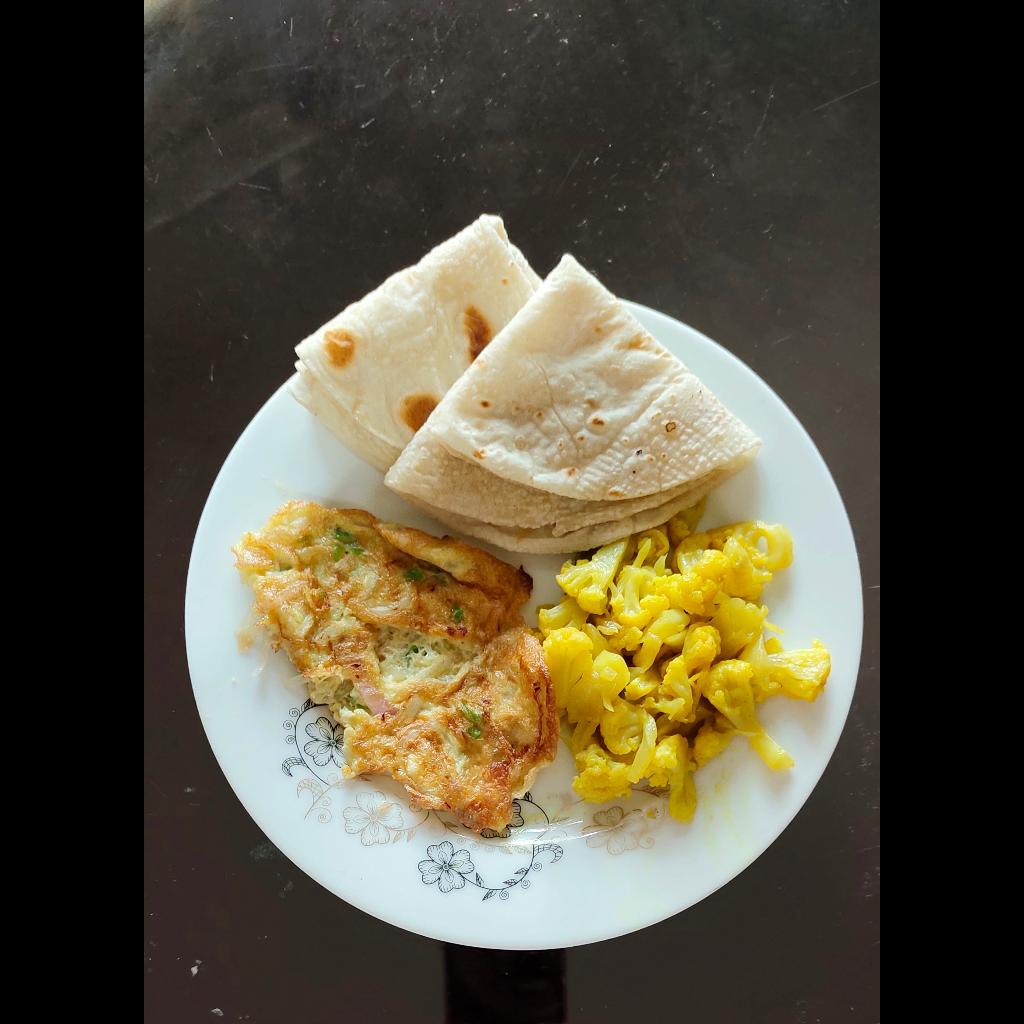cauliflower: (532, 516, 832, 825)
egg-poached: (229, 496, 556, 839)
ruti: (283, 207, 761, 553)
